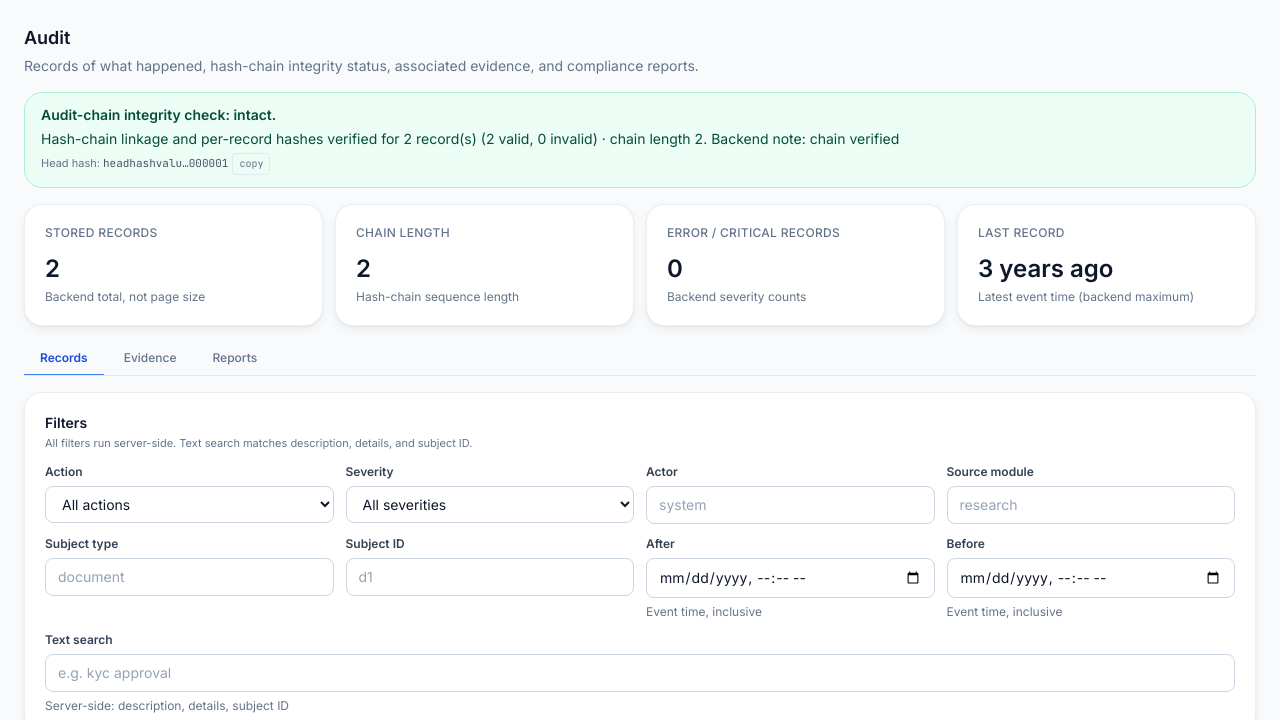
Test case: evidence › 32+33+36. rows, detail with verbatim hash, no invented excerpts
The width and height of the screenshot is (1280, 720).
Click the tab "Evidence" at (150, 359), box [108,342,192,376]
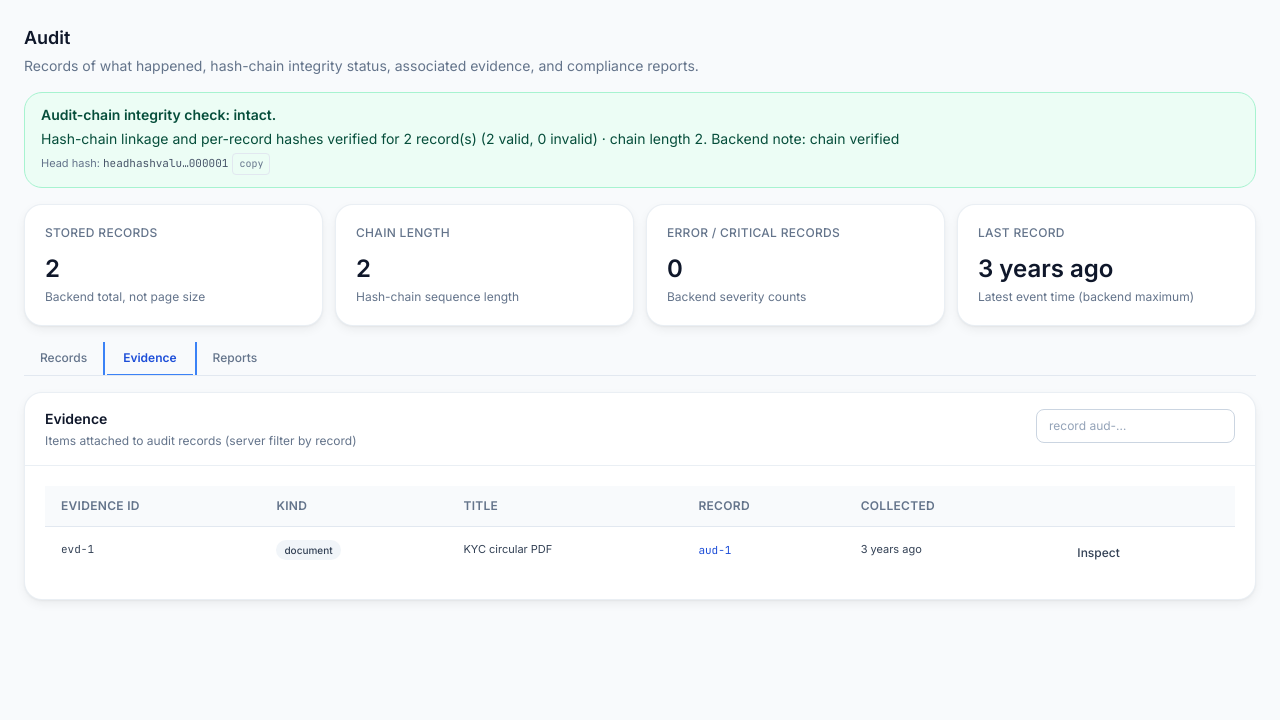
Check: the text "KYC circular PDF" is shown, box [447,527,682,579]
Click the button with aria-label "Inspect evidence evd-1" at (1099, 553), box [1067,539,1130,567]
(page scrolled)
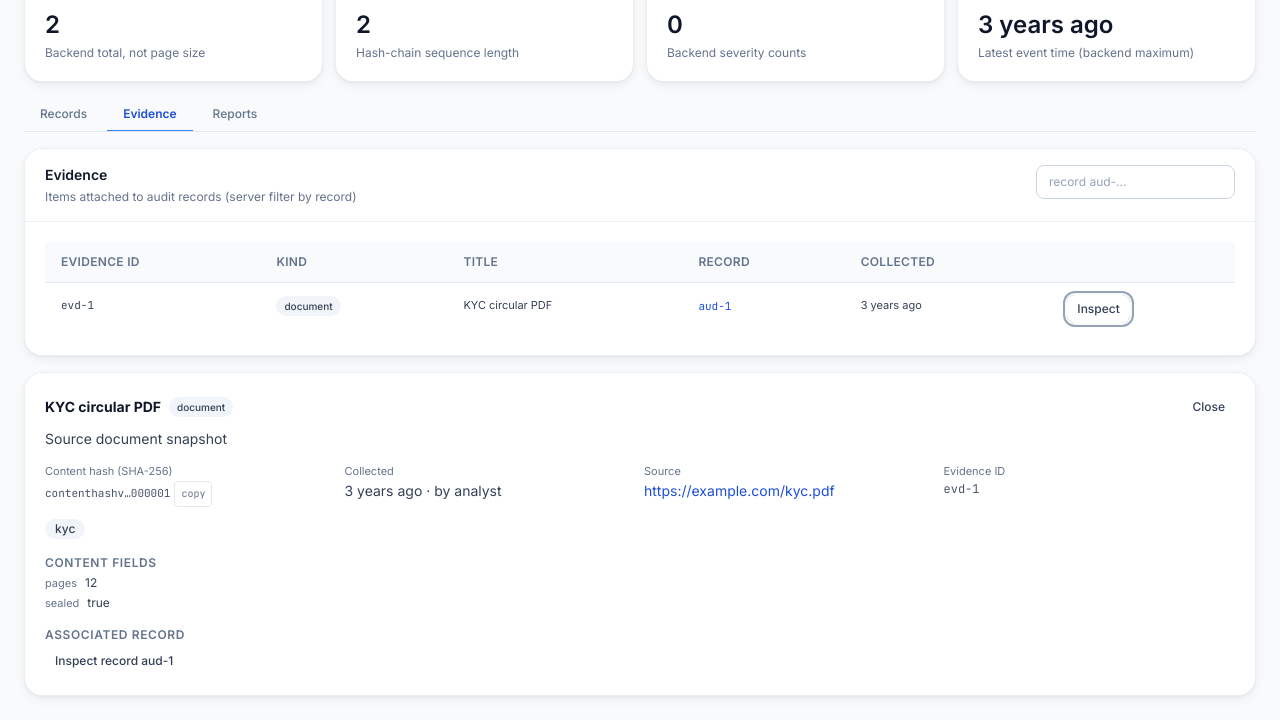
Check: the text "Source document snapshot" is shown, box [45,430,227,447]
Check: the button with aria-label "copy full hash" is shown, box [174,481,212,507]
Check: the text "pages" is shown, box [45,575,77,591]
